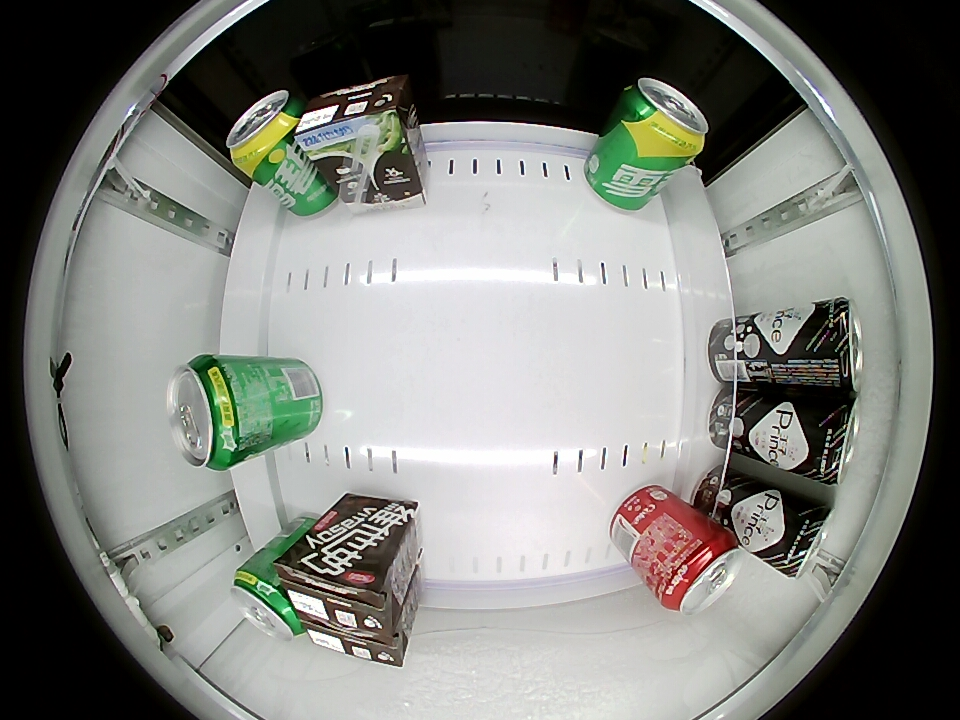kele: (656, 531, 742, 615)
qingdaowangzi-1: (803, 298, 863, 393), (800, 396, 862, 485), (775, 502, 834, 578)
weitanai2: (277, 544, 400, 637), (295, 76, 413, 158), (303, 621, 410, 667)
xuebi2: (167, 354, 254, 471), (618, 77, 709, 161), (226, 90, 304, 170), (231, 561, 304, 642)
